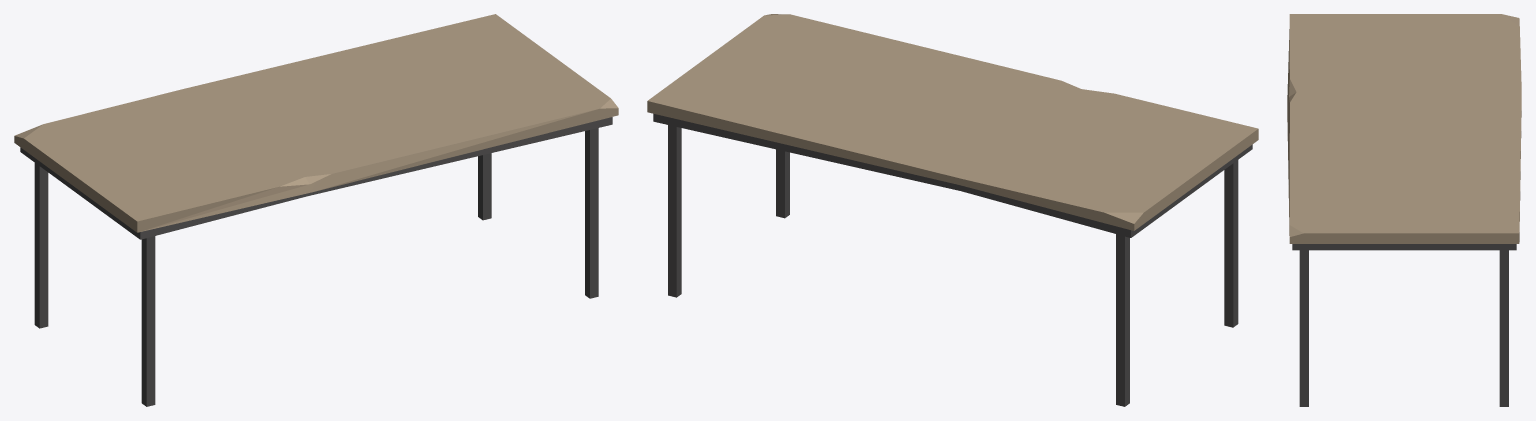
File: desk.glb
3 renders of one model, left to right at view 1: azimuth 30°, elevation 25°; view 2: azimuth 150°, elevation 25°; view 3: azimuth 270°, elevation 25°, orthographic. The views are drawn at different scales.
Visible parts, largest first — view 1: SM_Prop_Desk_01; view 2: SM_Prop_Desk_01; view 3: SM_Prop_Desk_01.
Part boxes in pixels (<box>): SM_Prop_Desk_01: <box>14,14,618,406</box>; SM_Prop_Desk_01: <box>647,14,1258,406</box>; SM_Prop_Desk_01: <box>1287,14,1521,406</box>.
Bounding box in the file's own units: 1.96 × 0.75 × 0.8848.
1 material, 1 textured.
